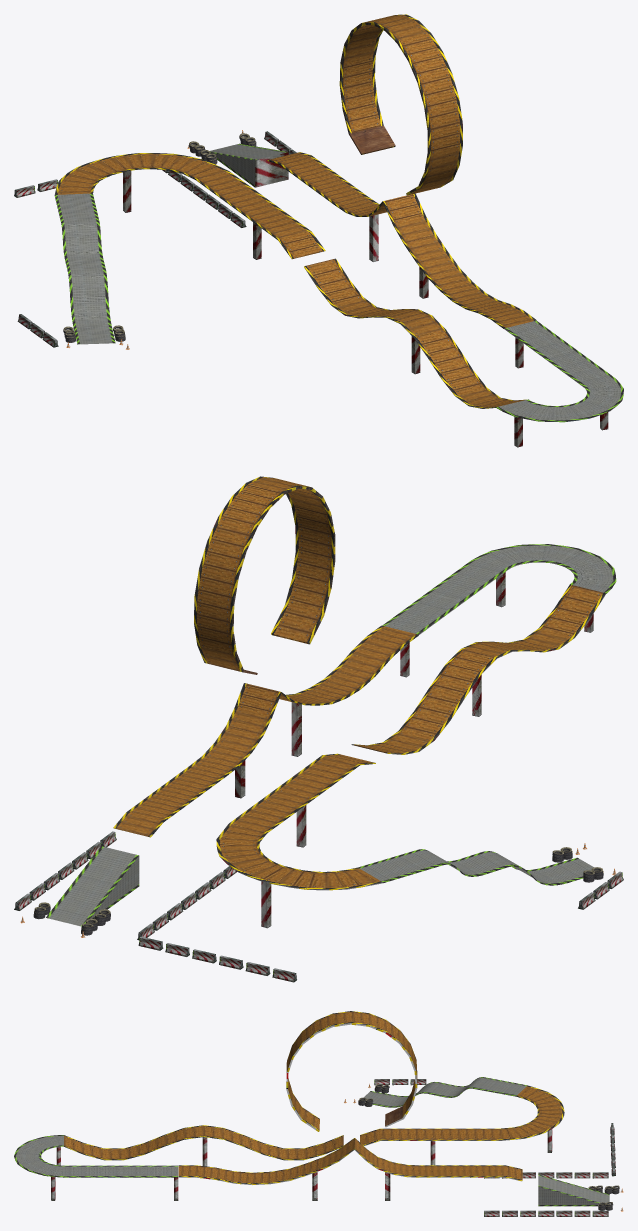
3 renders of one model, top to bottom at view 1: azimuth 30°, elevation 25°; view 2: azimuth 150°, elevation 25°; view 3: azimuth 270°, elevation 25°, orthographic. The views are drawn at different scales.
Visible parts, largest first — view 1: Level_o; view 2: Level_o; view 3: Level_o.
Part boxes in pixels (x1,y1,x2,y2): Level_o: [14, 14, 623, 447]; Level_o: [14, 476, 623, 982]; Level_o: [14, 1011, 623, 1216].
Size of the model in its own units: 4065 by 2619 by 7838.
